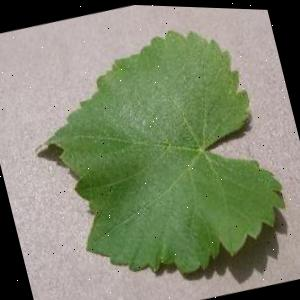Folha: (11, 6, 296, 300)
